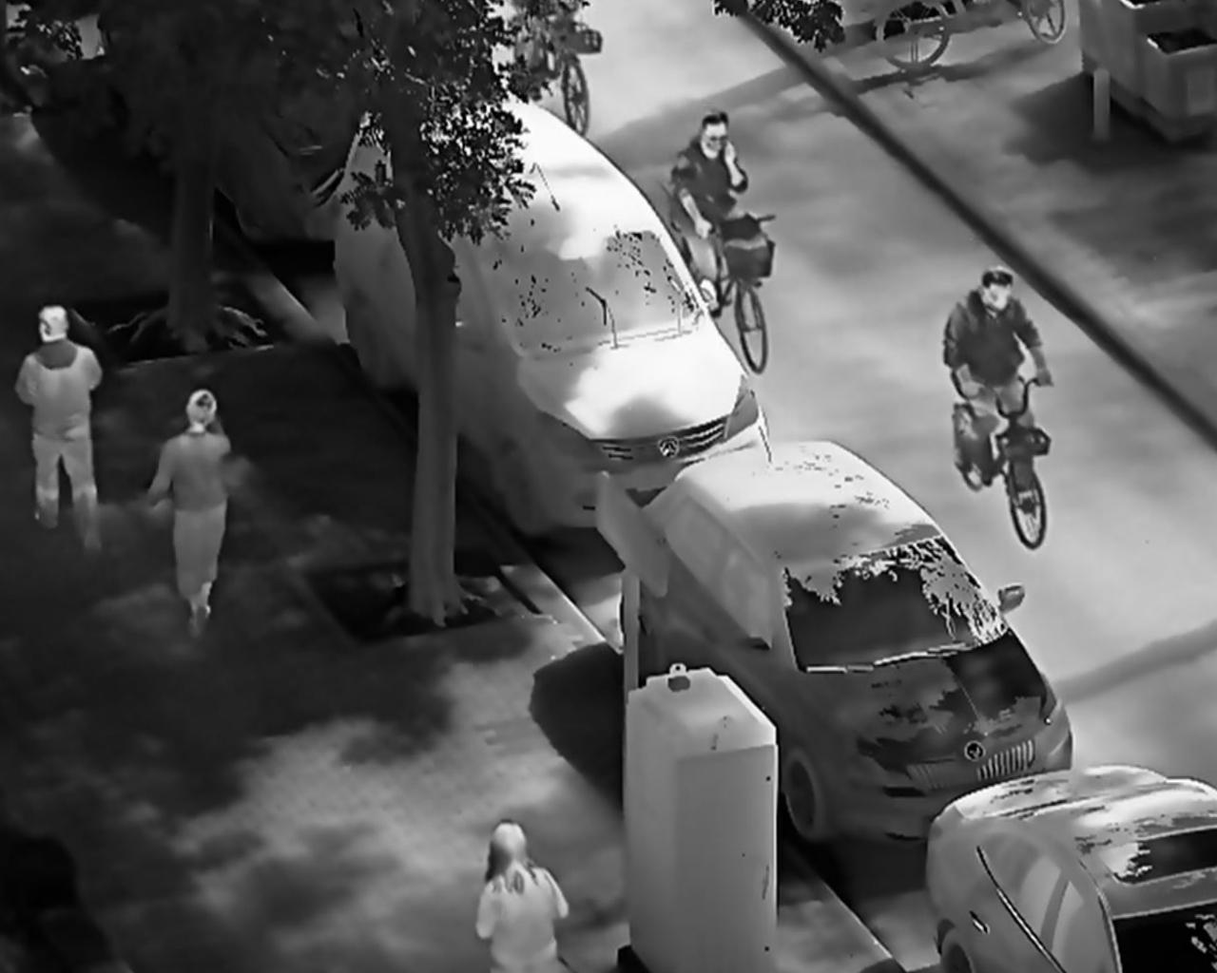person: (940, 263, 1059, 491), (14, 295, 114, 560), (138, 384, 238, 643), (666, 106, 768, 313), (468, 816, 577, 973)
